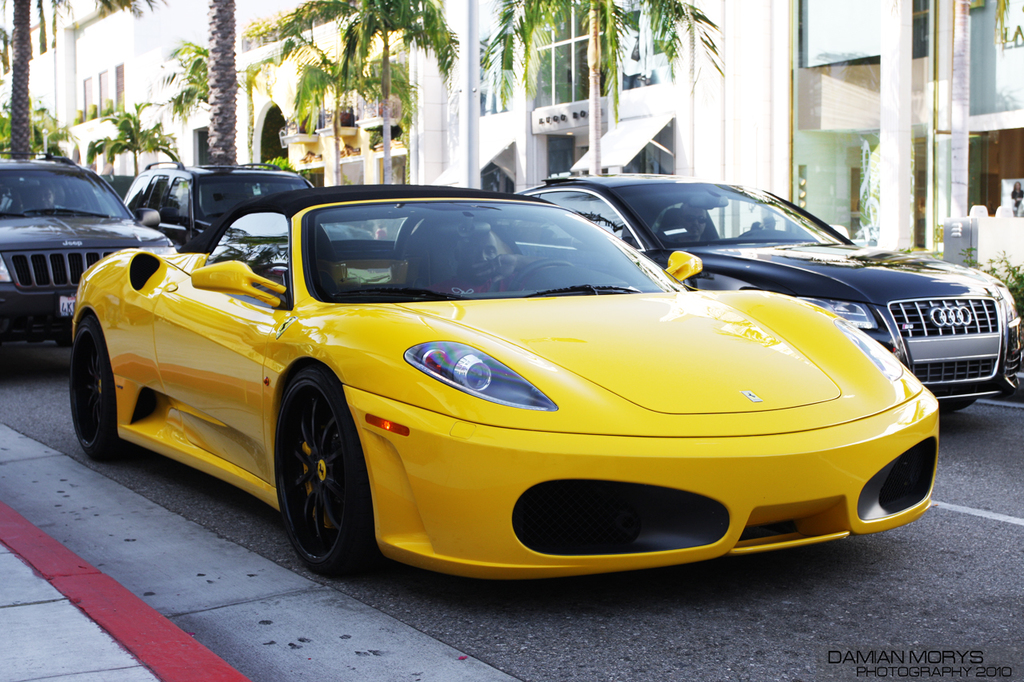mobil: (77, 198, 942, 596)
